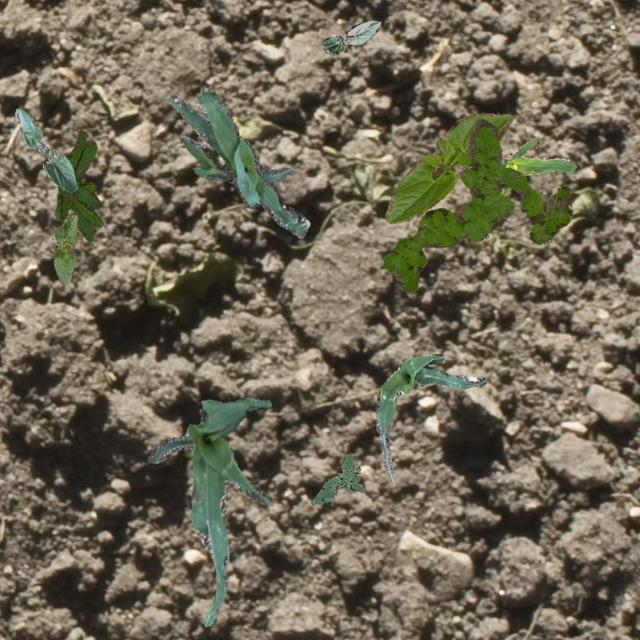crop: (146, 396, 272, 626), (168, 86, 308, 236), (374, 352, 486, 480), (384, 111, 512, 222), (14, 108, 76, 192), (500, 136, 576, 197), (320, 20, 380, 54), (52, 213, 76, 286)
weed: (380, 118, 570, 292), (54, 128, 102, 240), (310, 452, 364, 503)
